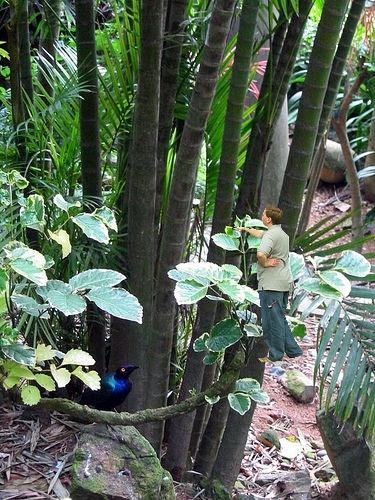tampered: (233, 205, 303, 362)
